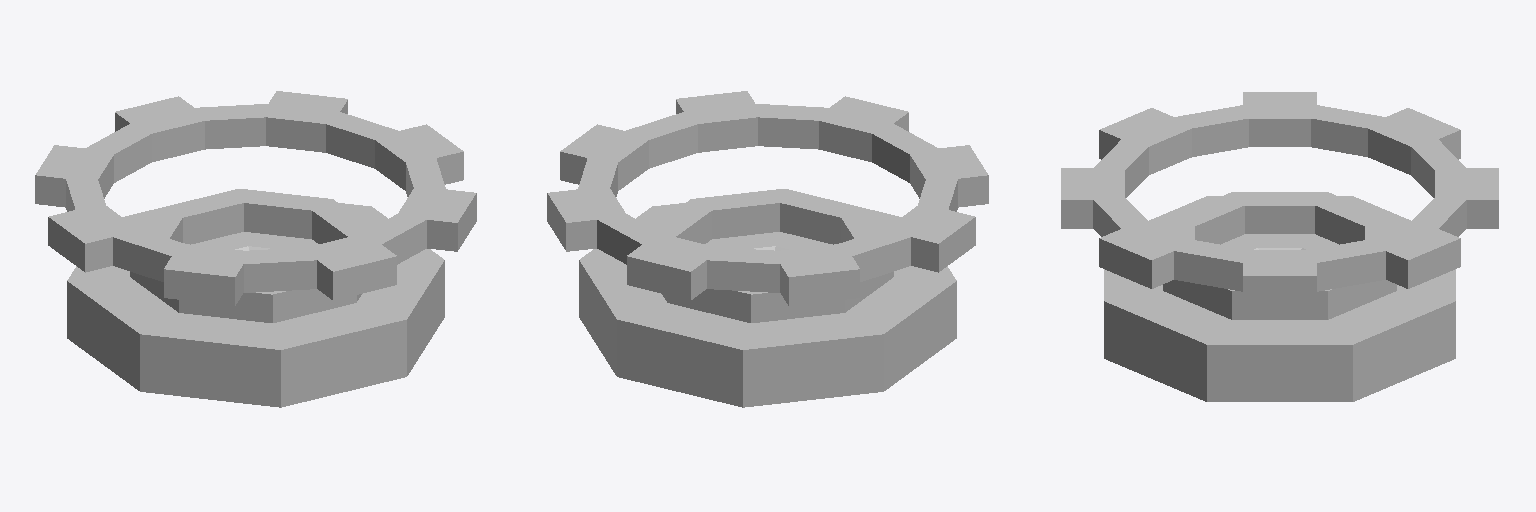
The model's file is lodestar_base.obj.
3 renders of one model, left to right at view 1: azimuth 30°, elevation 25°; view 2: azimuth 150°, elevation 25°; view 3: azimuth 270°, elevation 25°, orthographic.
Visible parts, largest first — view 1: BASE_Cylinder; view 2: BASE_Cylinder; view 3: BASE_Cylinder.
Part boxes in pixels (x1,y1,x2,y2): BASE_Cylinder: (35, 91, 476, 407); BASE_Cylinder: (547, 91, 988, 407); BASE_Cylinder: (1061, 92, 1498, 401).
Bounding box in the file's own units: 0.8606 × 0.3125 × 0.8606.